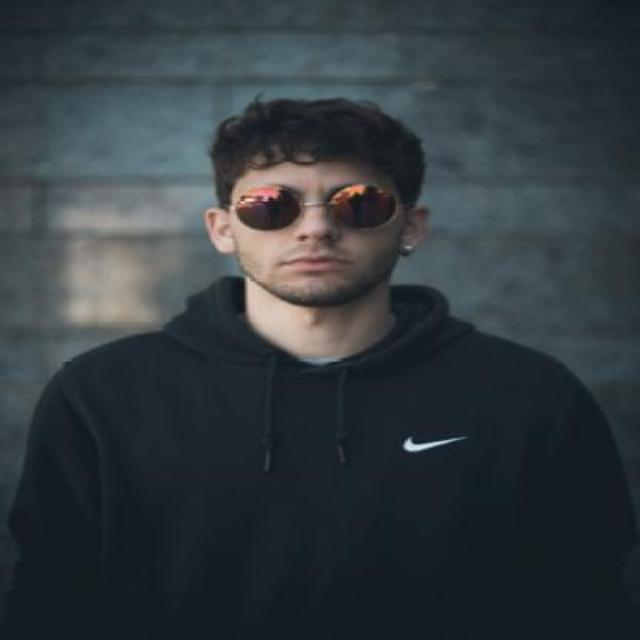sunglasses: (225, 184, 405, 226)
